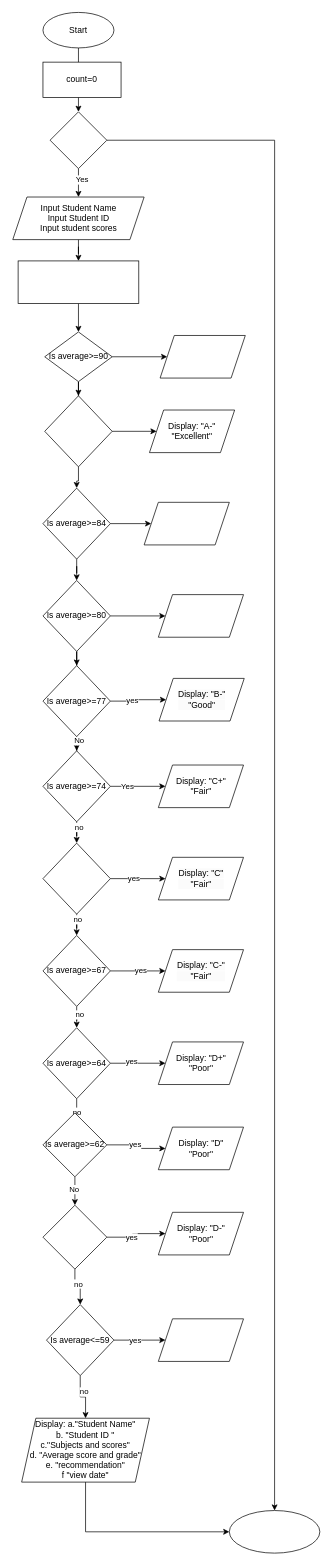
Image size: 332x1566. Some labels were removed from this diagram. Here are the shapes that lost their labels. From the top down, the box of each, then its label:
(49, 111, 107, 169): Is count<10
(17, 260, 139, 304): total_scores=sum(scores) average=(total_scores)/(5)
(159, 335, 245, 378): Display: "A" "Excellent"
(44, 395, 112, 467): Is average>=87
(143, 502, 229, 545): Display: "B+" "Good"
(158, 594, 244, 637): Display: "B" "Good"
(42, 842, 110, 914): Is average>=70
(42, 1205, 107, 1269): Is average>=60
(158, 1318, 244, 1361): Display: "F" "Fail"
(229, 1510, 320, 1553): Stop
